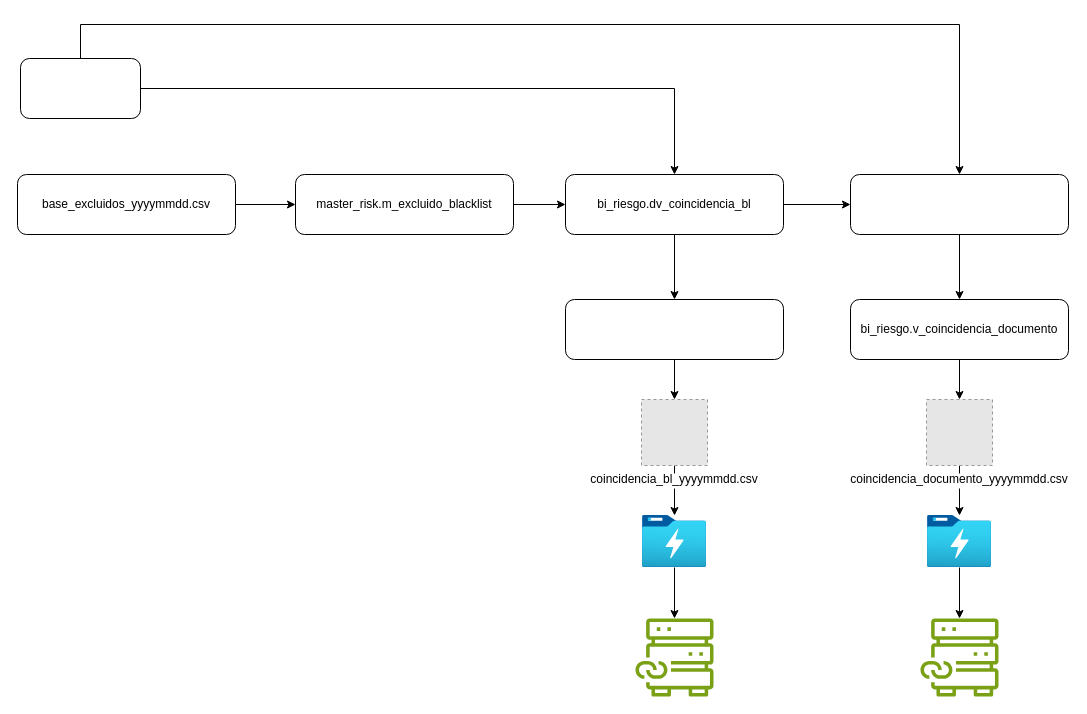
Image size: 1087x714. Some labels were removed from this diagram. Grey dashed boxes stand in for pictures. The centre of each missing label's shape, as x and y in pixels:
bi_riesgo.dv_coincidencia_documento: the point at 959,204
bi_riesgo.v_coincidencia_bl: the point at 674,329
m_comercio: the point at 80,88
